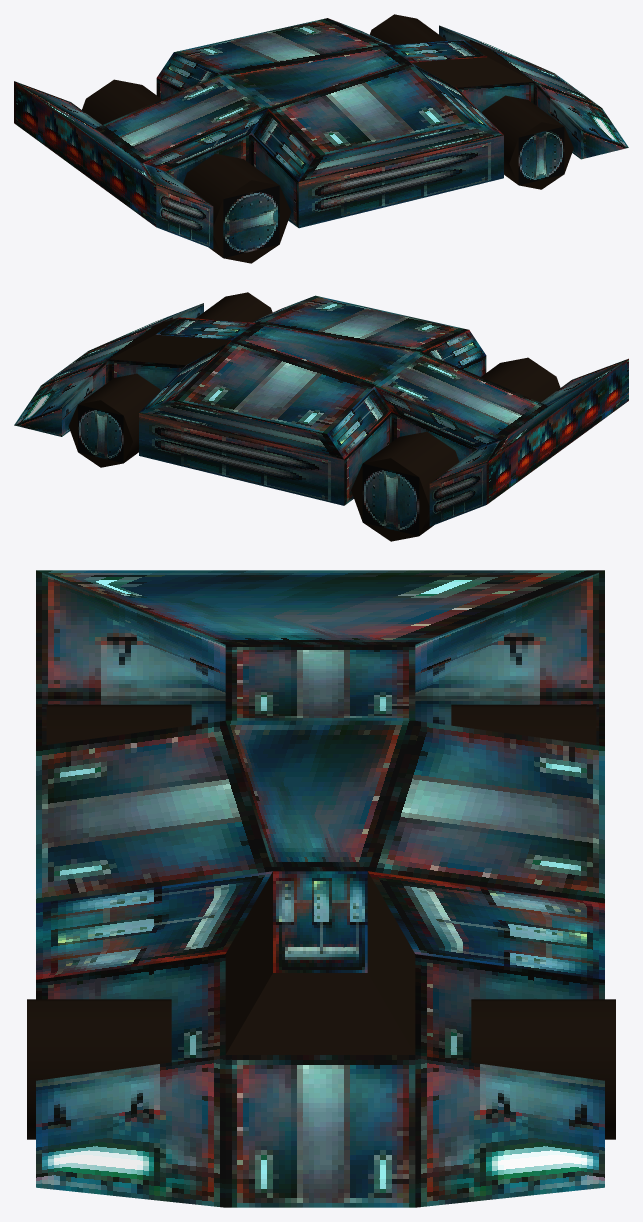
The model's file is Bakar.glb.
3 views of the same model, one above another, from view 1: azimuth 30°, elevation 25°; view 2: azimuth 150°, elevation 25°; view 3: azimuth 270°, elevation 25° (orthographic). The views are drawn at different scales.
Visible parts, largest first — view 1: ChassisSR0, WheelRR, WheelFR, WheelRL, WheelFL; view 2: ChassisSR0, WheelRL, WheelFL, WheelRR, WheelFR; view 3: ChassisSR0, WheelFL, WheelFR, WheelRL, WheelRR.
Boxes of the visible parts, <box> form: ChassisSR0: <box>14,18,628,248</box>; WheelRR: <box>183,153,291,263</box>; WheelFR: <box>482,95,573,189</box>; WheelRL: <box>82,79,161,124</box>; WheelFL: <box>369,14,446,44</box>; ChassisSR0: <box>14,295,628,526</box>; WheelRL: <box>351,431,459,541</box>; WheelFL: <box>68,373,160,467</box>; WheelRR: <box>481,357,560,402</box>; WheelFR: <box>195,292,272,322</box>; ChassisSR0: <box>36,570,604,1207</box>; WheelFL: <box>471,999,615,1139</box>; WheelFR: <box>27,999,171,1139</box>; WheelRL: <box>451,704,596,745</box>; WheelRR: <box>46,704,191,744</box>.
Size of the model in its own units: 6.92 by 1.44 by 3.58.
2 materials, 1 textured.
